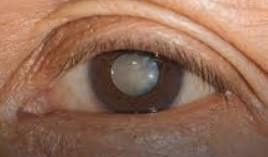eye: (89, 49, 183, 115)
